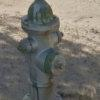Hydrant: (15, 1, 80, 97)
